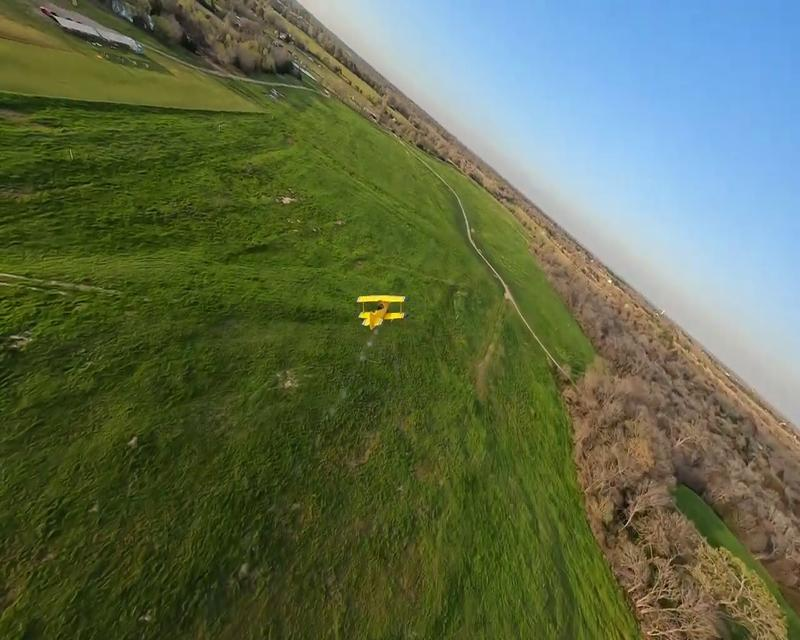UAV: (355, 295, 409, 329)
